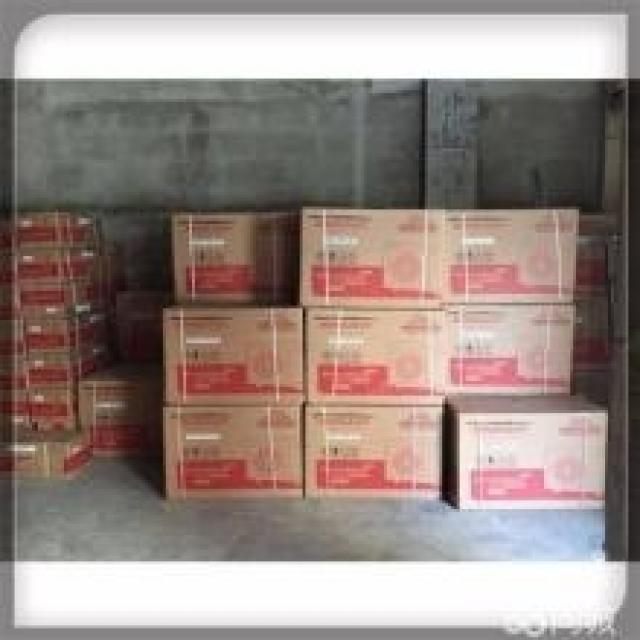box: (443, 395, 608, 512), (301, 207, 444, 309), (164, 304, 303, 405), (307, 309, 446, 404), (441, 209, 580, 303), (164, 406, 304, 499), (305, 406, 443, 500), (440, 302, 576, 395), (172, 213, 299, 304), (79, 362, 163, 456), (14, 426, 92, 480), (23, 314, 95, 361), (17, 213, 97, 253), (23, 351, 94, 390), (17, 250, 96, 283), (19, 283, 91, 319), (27, 388, 79, 422)
